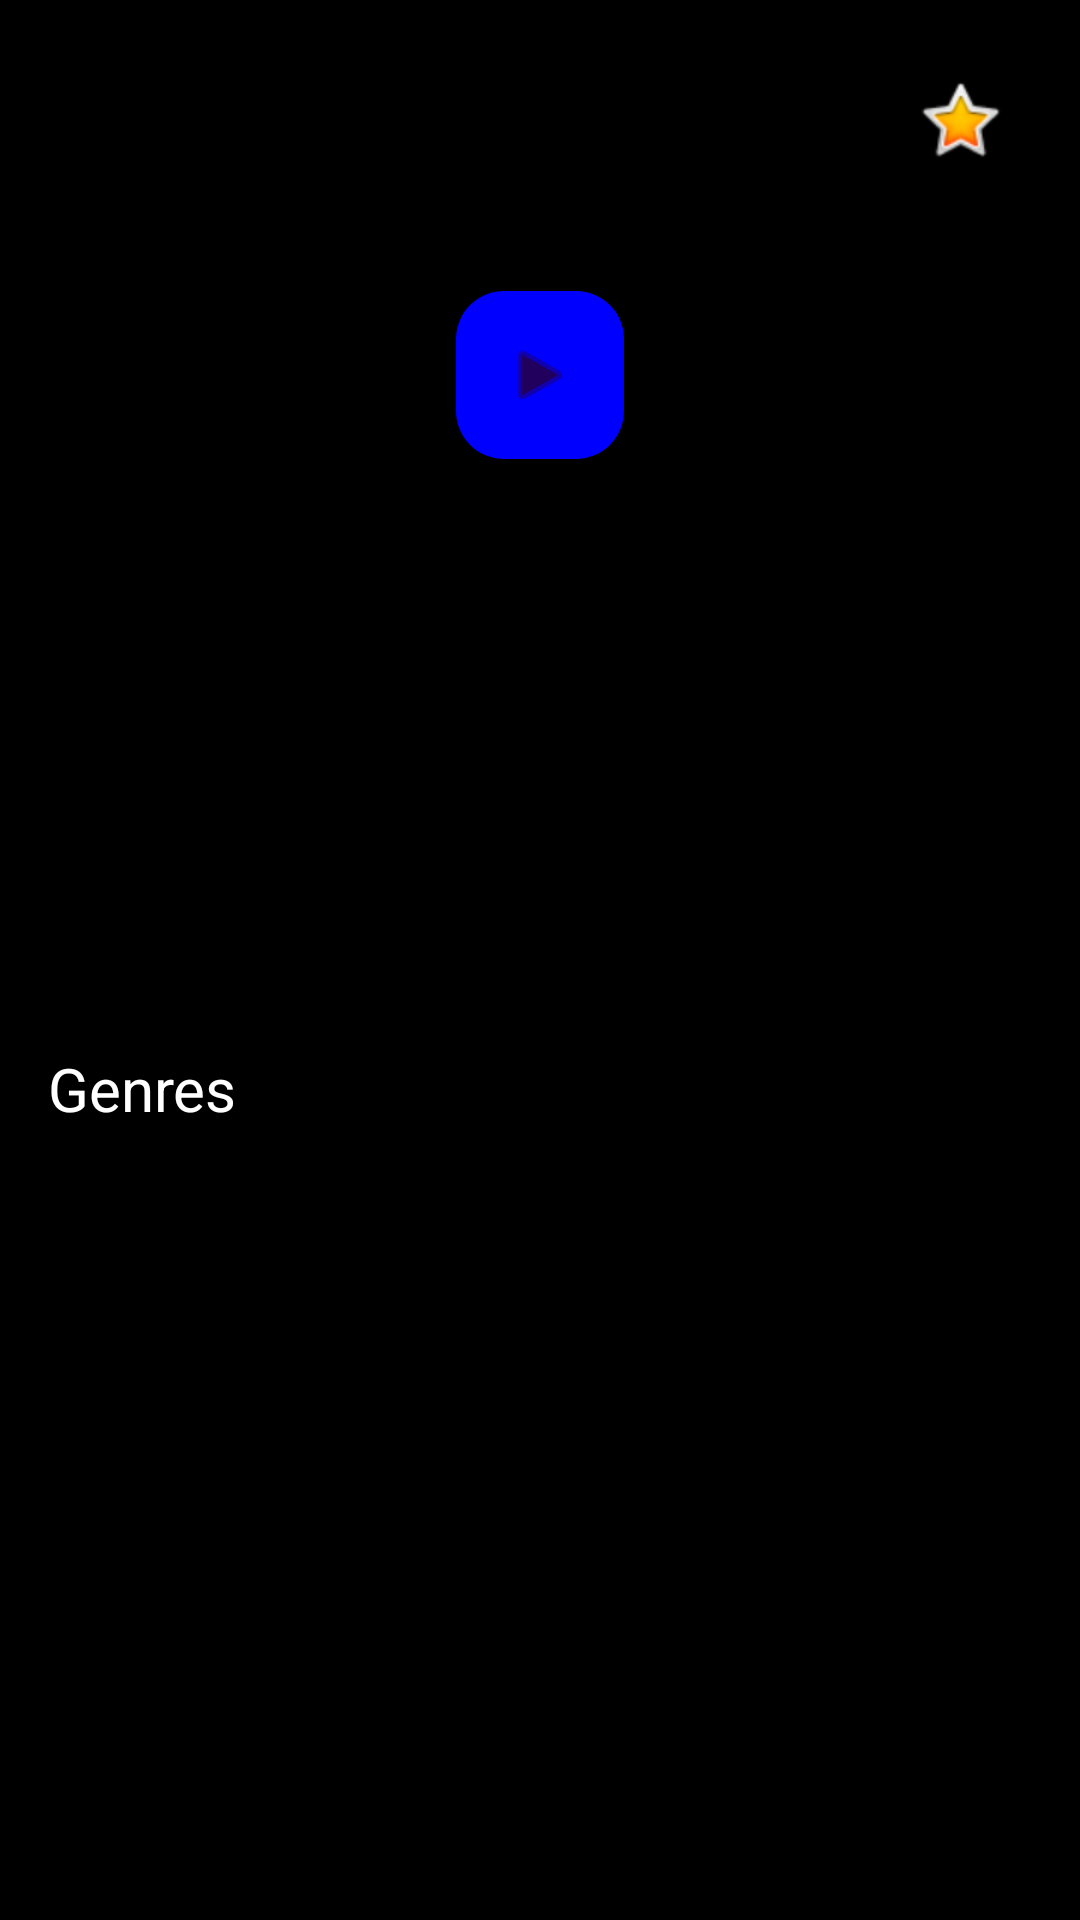

Where icons sit on this 1080 x 1920 app screen, as {"left": x1, "top": y1, "right": x2, "bottom": y2}:
play: {"left": 456, "top": 291, "right": 624, "bottom": 459}
star on: {"left": 922, "top": 83, "right": 1000, "bottom": 157}
